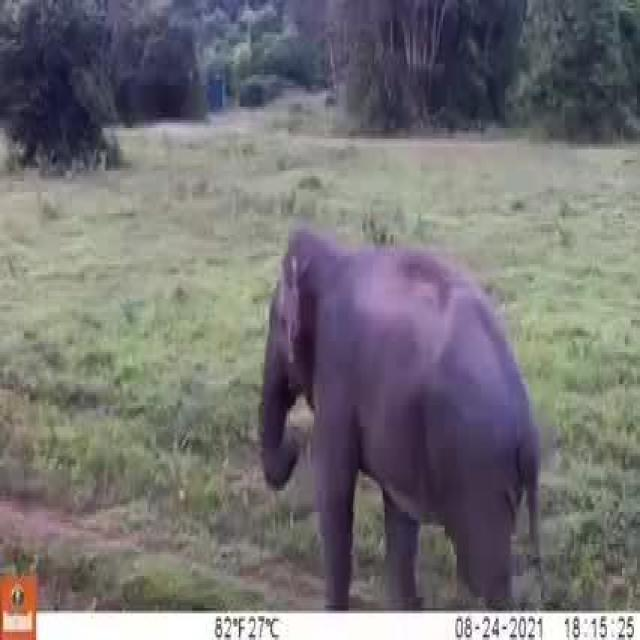Elephant: (248, 208, 521, 548)
